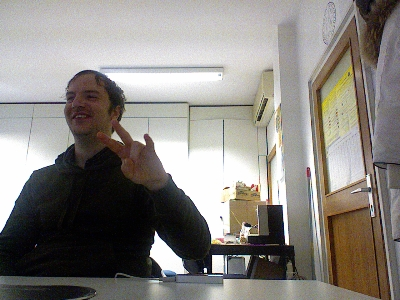观音: (94, 118, 167, 188)
